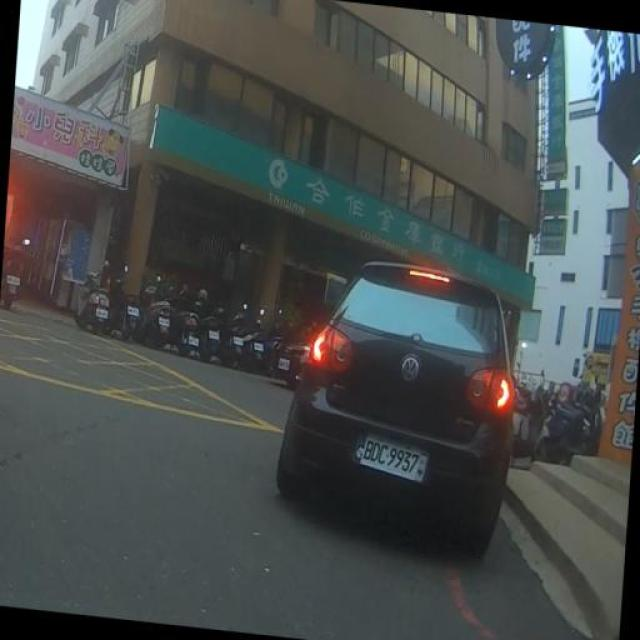illegalparking: (275, 236, 561, 565)
